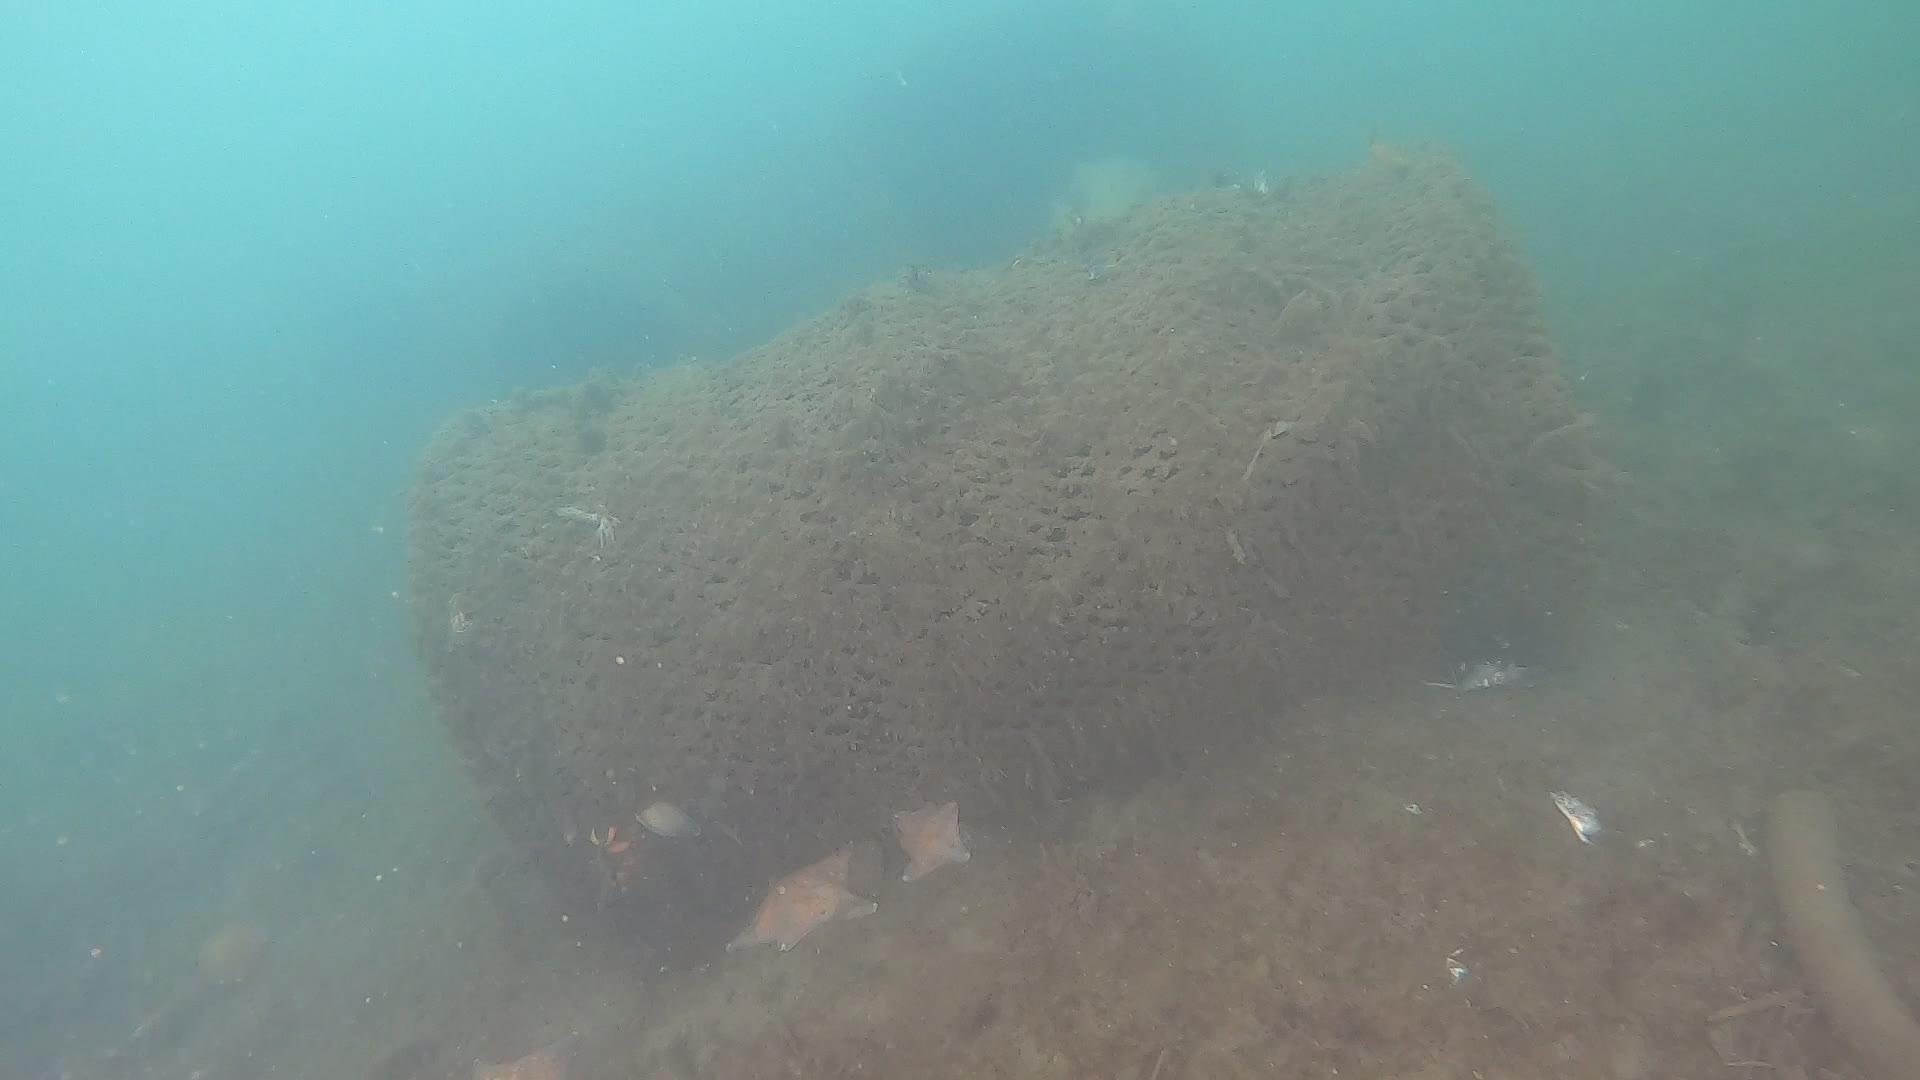spring fish trap: (398, 135, 1615, 967)
